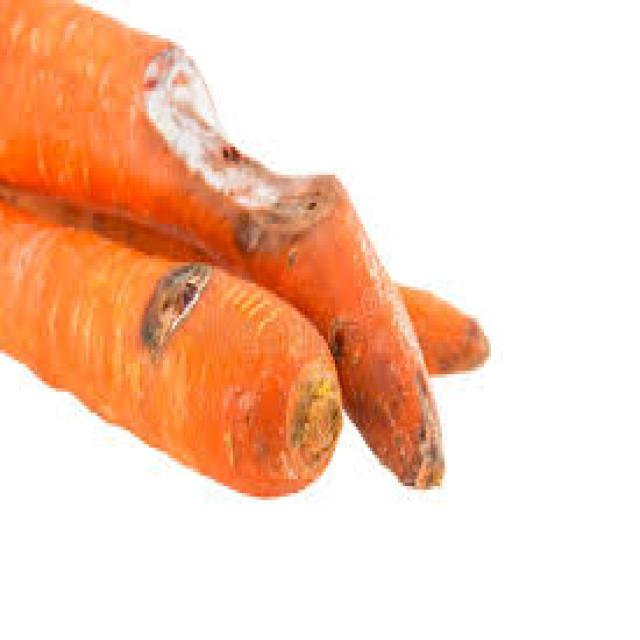Stale_Carrot: (0, 0, 495, 494)
